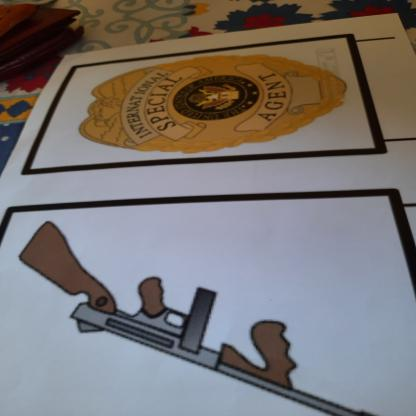Bootlegger: (13, 209, 416, 416)
G-man: (74, 49, 358, 160)
